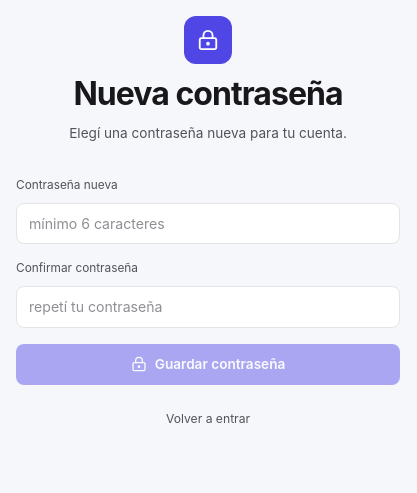
it: ResetPasswordView › avisa si las contraseñas no coinciden
Type "nueva123" into the password field with id "reset-password" at (208, 224), box 16,203 -> 400,244
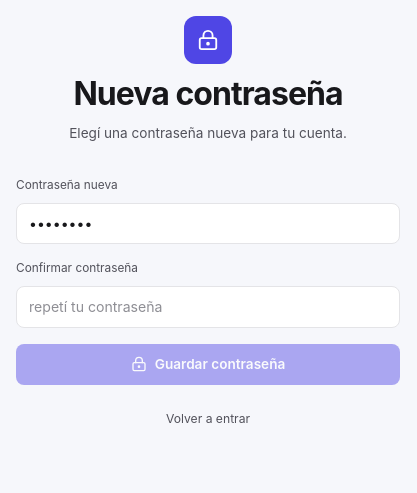
Type "otra123" into the password field with id "reset-confirm" at (208, 307), box 16,286 -> 400,328
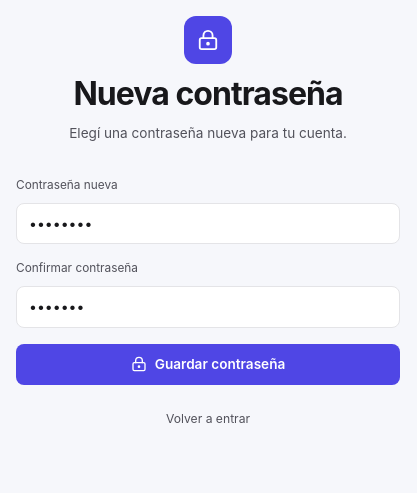
Submit the form, box 16,177 -> 400,385
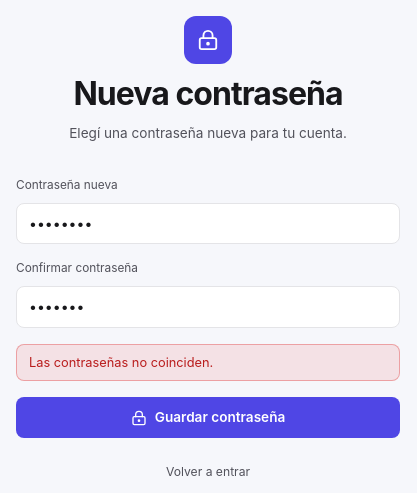
Expected: the message "Las contraseñas no coinciden." is shown, 16,344 -> 400,381
